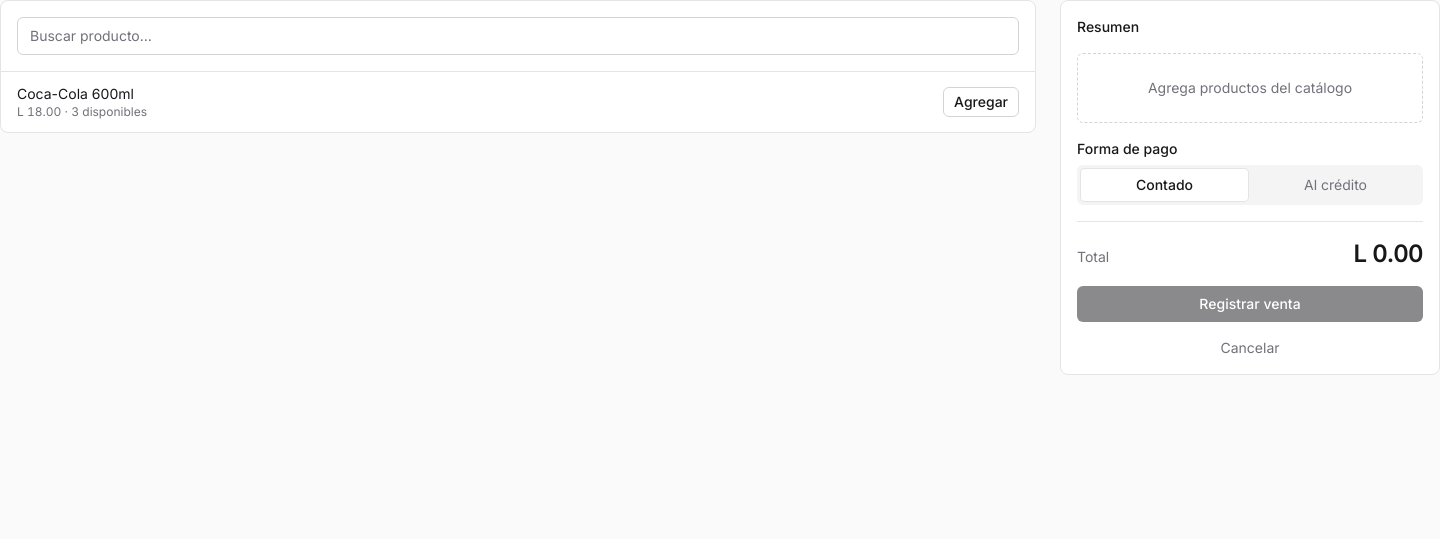
Test case: formularios › NuevaVentaForm conserva carrito, forma de pago y cliente tras un error
This screenshot has width=1440, height=539.
Step 1. Click the button with aria-label "Agregar Coca-Cola 600ml" → (981, 102), box [943, 87, 1019, 117]
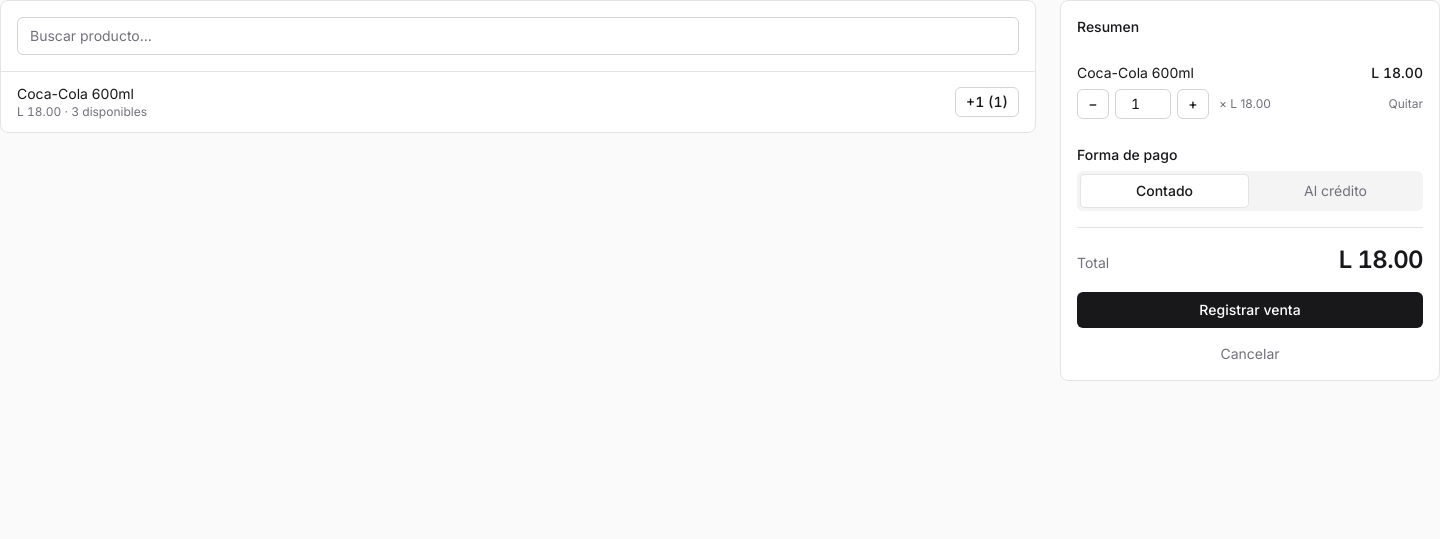
Step 2. Click the radio button labelled "Al crédito" → (1336, 190), box [1304, 182, 1367, 199]
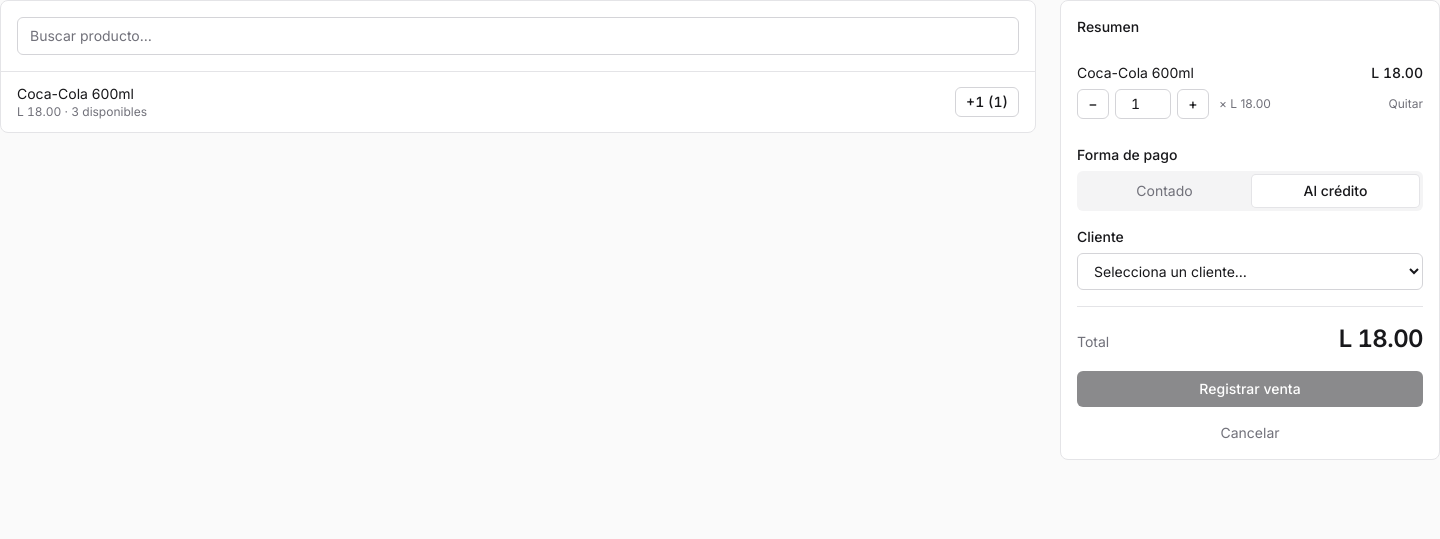
Step 3. Select "María" in the dropdown labelled "Cliente" → (1250, 272), box [1077, 253, 1423, 290]
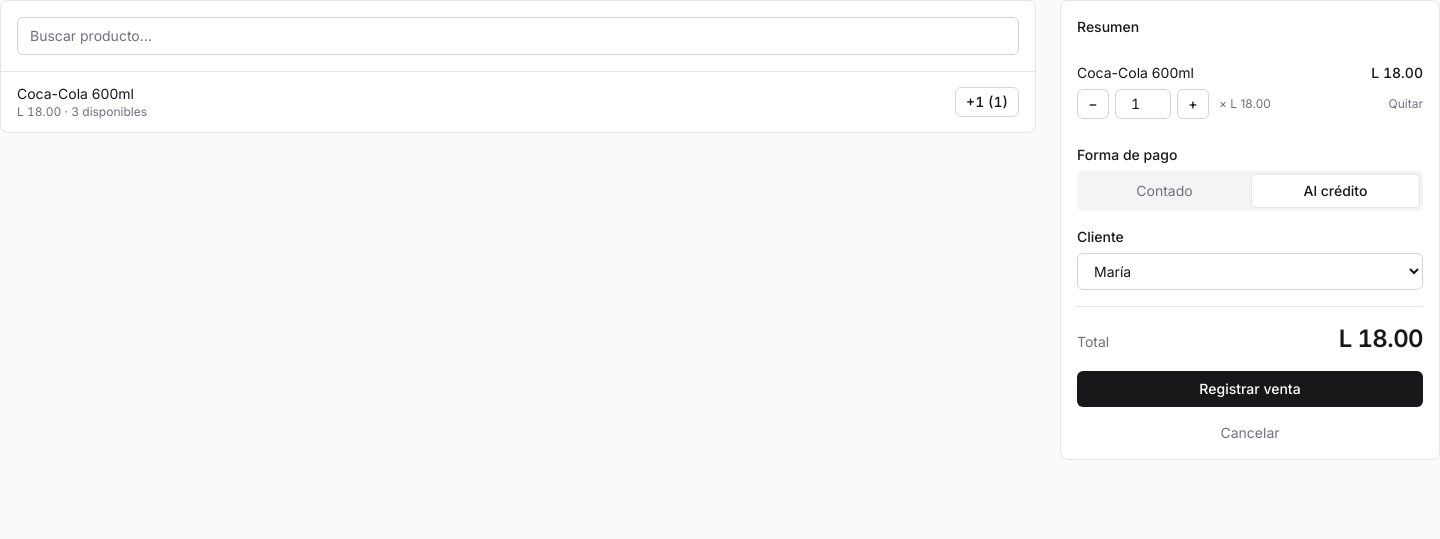
Step 4. Click the button "Registrar venta" → (1250, 389), box [1077, 371, 1423, 407]
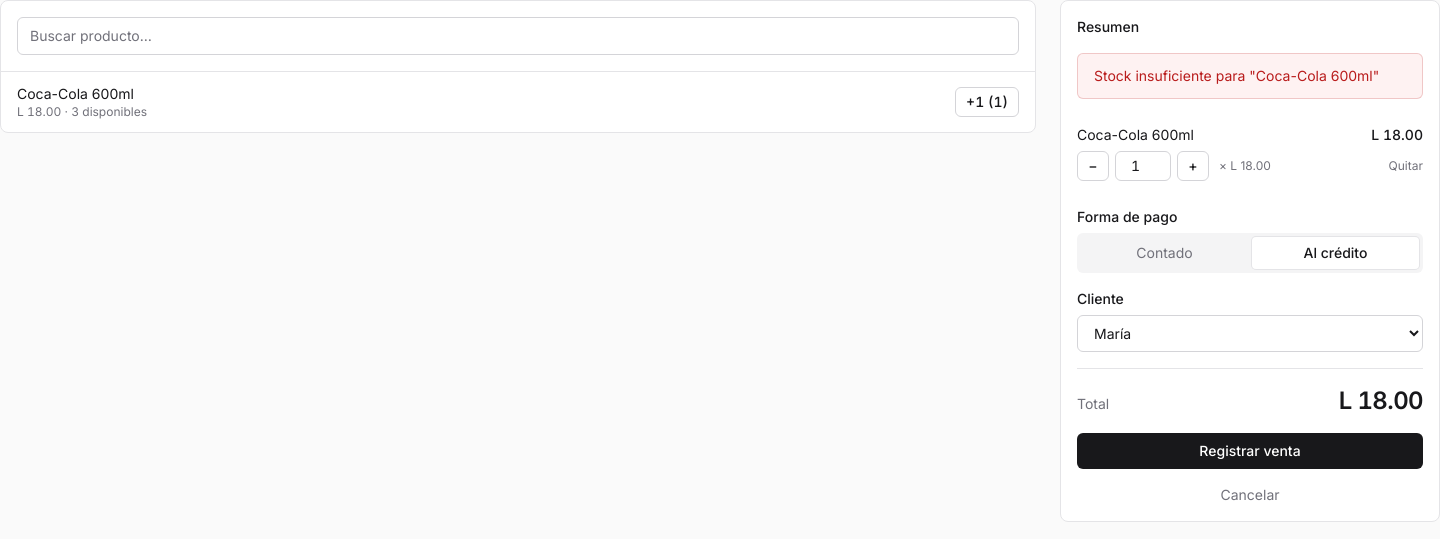
expect the radio button labelled "Al crédito" is checked: met, box [1252, 237, 1419, 269]
expect the text "Stock insuficiente para \"Coca-Cola 600ml\"" is shown: met, box [1094, 66, 1379, 86]
